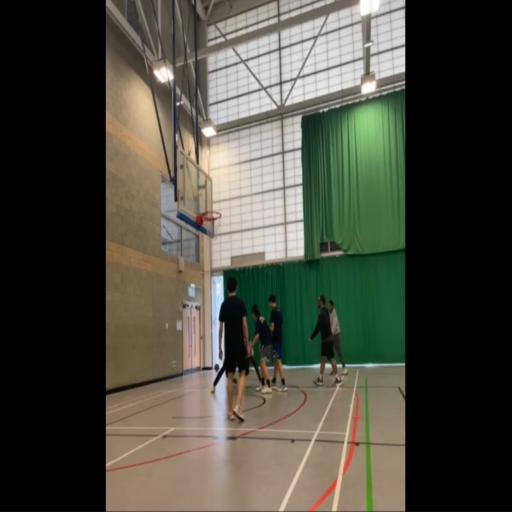hoops: (198, 208, 225, 242)
